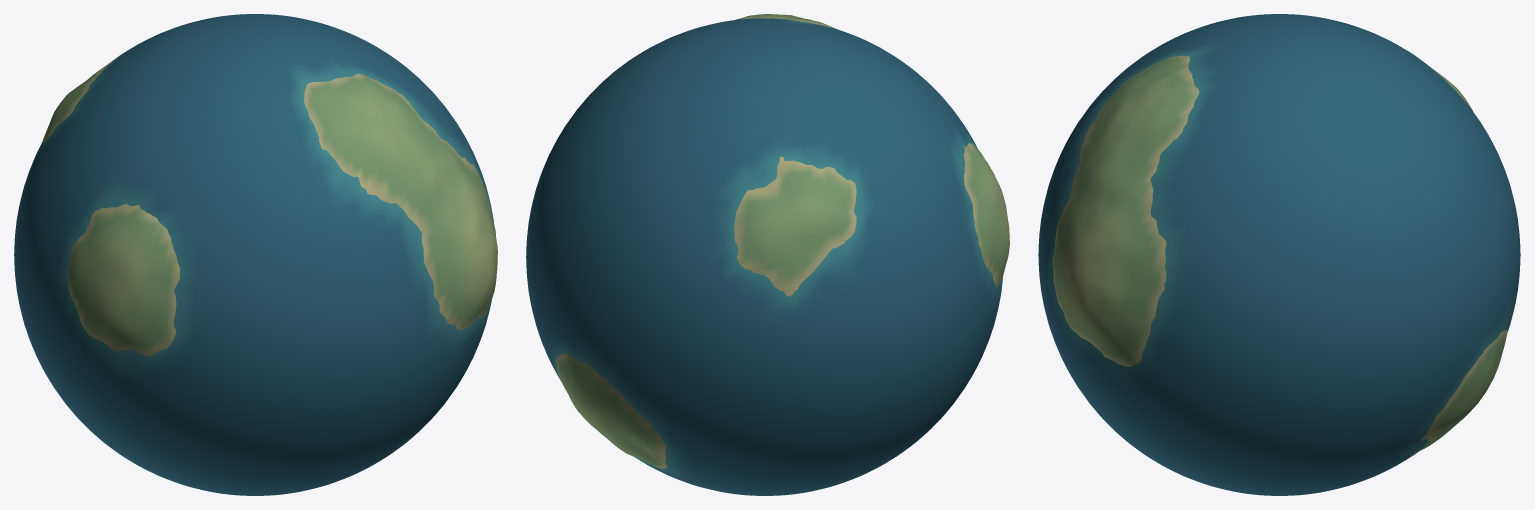
The model's file is planet.glb.
3 renders of one model, left to right at view 1: azimuth 30°, elevation 25°; view 2: azimuth 150°, elevation 25°; view 3: azimuth 270°, elevation 25°, orthographic.
Visible parts, largest first — view 1: Ocean, Land; view 2: Ocean, Land; view 3: Ocean, Land.
Boxes of the visible parts, box(x1,y1,x2,y2) form: Ocean: box(14, 14, 493, 495); Land: box(42, 61, 497, 356); Ocean: box(526, 18, 1002, 495); Land: box(556, 14, 1009, 468); Ocean: box(1038, 14, 1520, 495); Land: box(1052, 50, 1507, 450).
Bounding box in the file's own units: 2 × 2 × 2.
